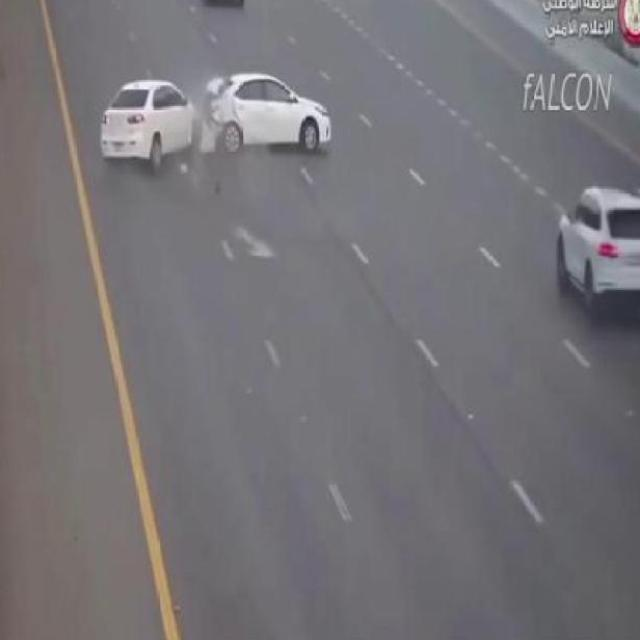accident: (78, 63, 342, 175)
